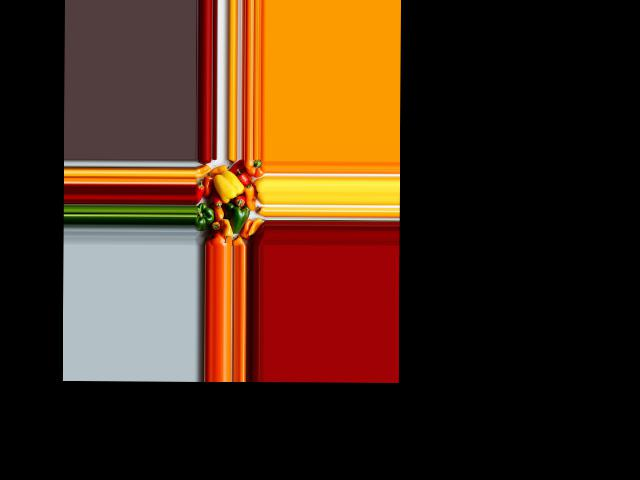bell_pepper: (194, 179, 207, 201)
